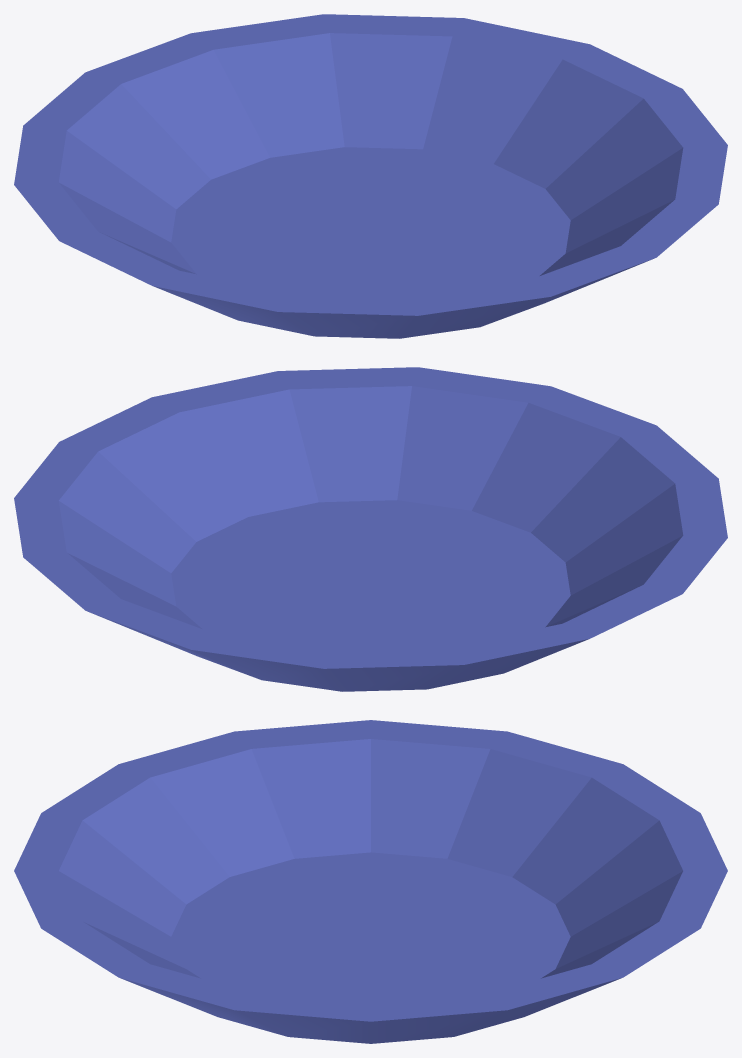
Rendered from blockout_Plate.fbx.
3 renders of one model, top to bottom at view 1: azimuth 30°, elevation 25°; view 2: azimuth 150°, elevation 25°; view 3: azimuth 270°, elevation 25°, orthographic.
Visible parts, largest first — view 1: blockout_Plate; view 2: blockout_Plate; view 3: blockout_Plate.
Boxes of the visible parts, <box> form: blockout_Plate: <box>14,14,727,338</box>; blockout_Plate: <box>14,367,727,691</box>; blockout_Plate: <box>14,720,727,1043</box>.
Bounding box in the file's own units: 20.32 × 2.56 × 20.32.
Materials: 1 (1 with a texture image).
